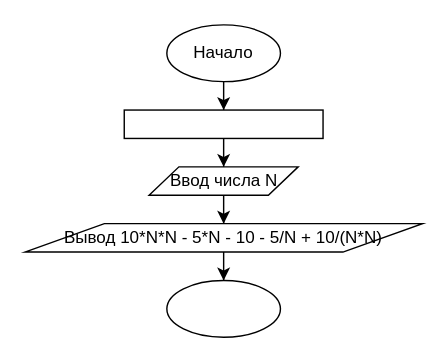
Image size: 447x362. Some labels were removed from this diagram. The shapes that lost their labels are listed below. From the top down, each one's box as (x1, y1, x2, y2) in pixels, then its label:
(123, 109, 323, 138): Вещественное число N
(165, 279, 280, 337): Конец
